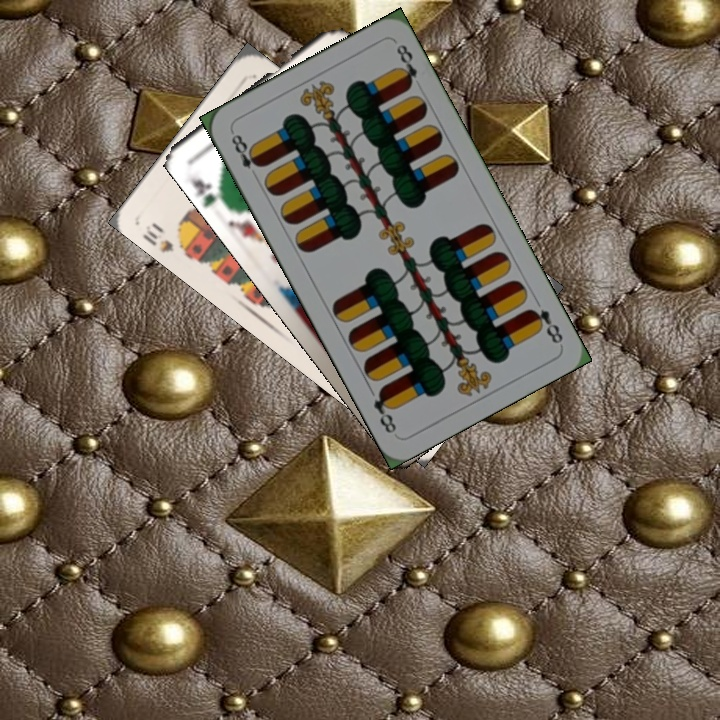E8: (227, 127, 265, 182), (524, 304, 566, 347)
GK: (186, 173, 229, 210)
S10: (139, 218, 191, 258)
